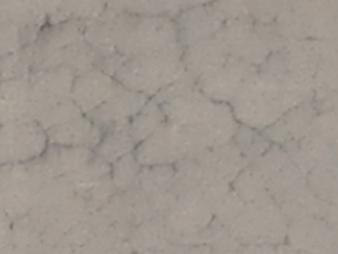fissura: (16, 23, 323, 254)
